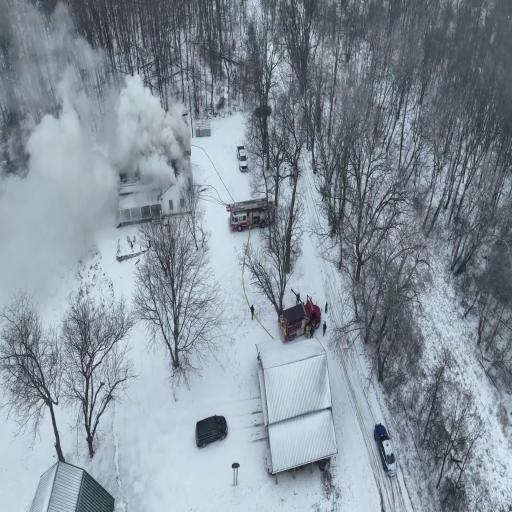smoke: (123, 93, 181, 176)
